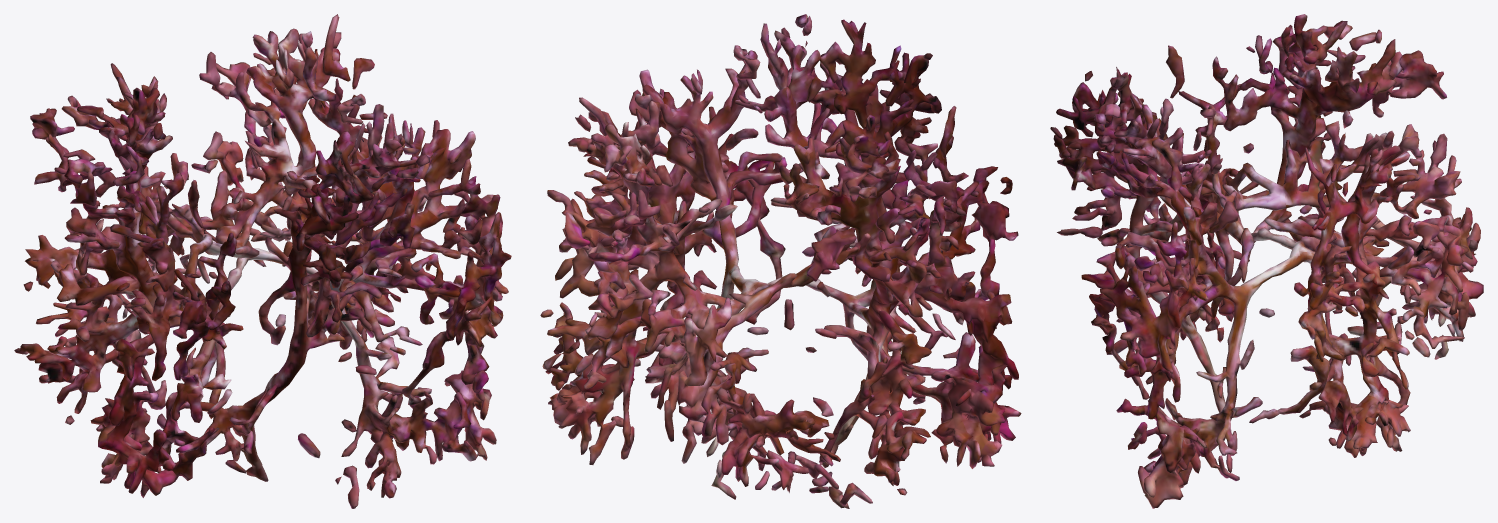
Rendered from seaweed0017_dup.gltf.
3 views of the same model, side by side, from view 1: azimuth 30°, elevation 25°; view 2: azimuth 150°, elevation 25°; view 3: azimuth 270°, elevation 25° (orthographic). The views are drawn at different scales.
Parts seen in each view (by area): view 1: Mesh_0.030; view 2: Mesh_0.030; view 3: Mesh_0.030.
Part boxes in pixels (left/top/right/bottom): Mesh_0.030: left=14, top=14, right=511, bottom=508; Mesh_0.030: left=540, top=14, right=1021, bottom=508; Mesh_0.030: left=1050, top=14, right=1483, bottom=508.
Size of the model in its own units: 1.94 by 1.91 by 1.95.
1 material, 1 textured.
